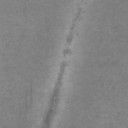finishing roll printing: (40, 62, 67, 126), (66, 8, 82, 45), (62, 48, 72, 57)
